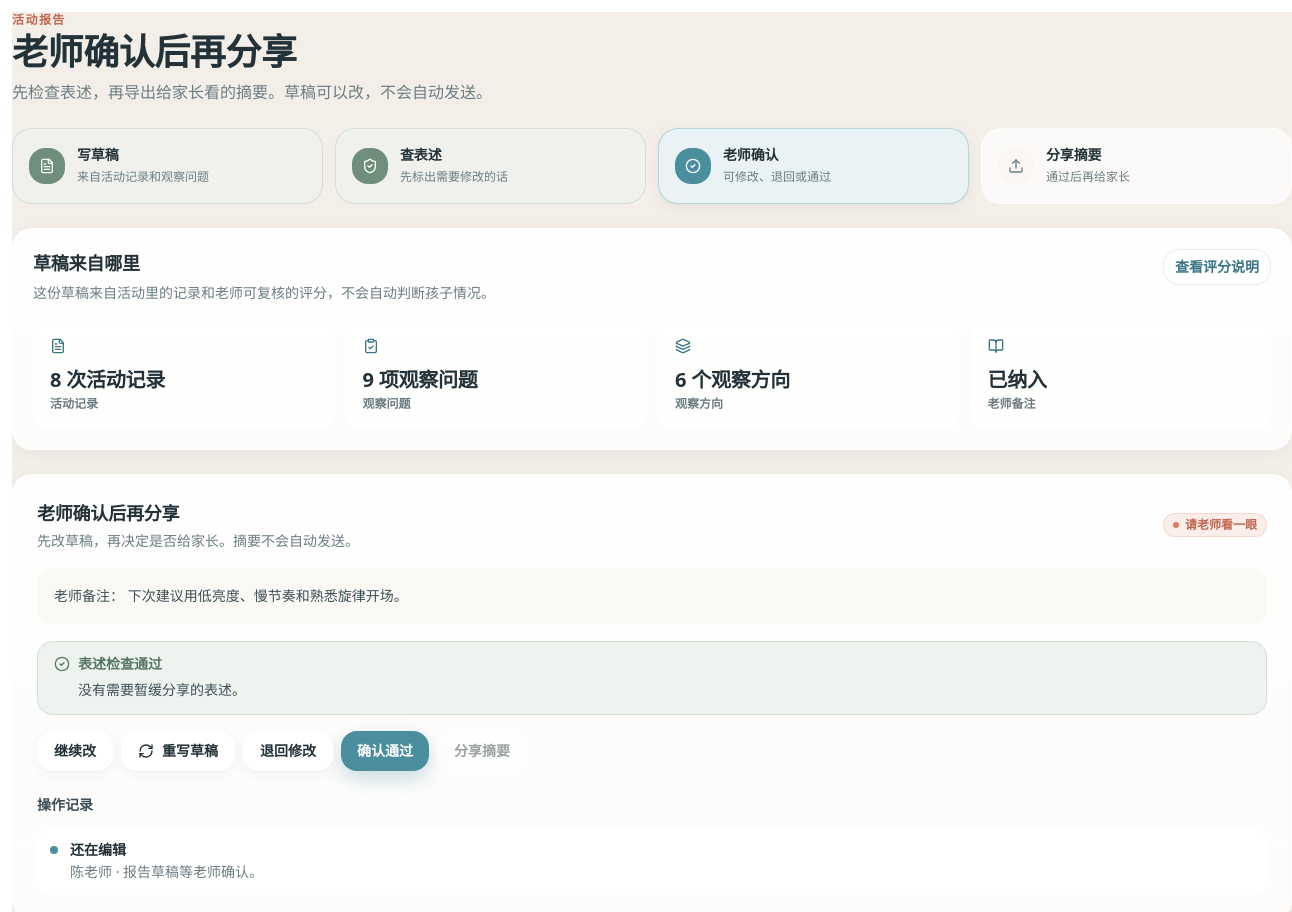
Test: core pages › regenerates the report draft and shows a user-facing audit entry
Click the button "重写草稿". click: (178, 751)
box: x1=121 y1=731 x2=235 y2=771
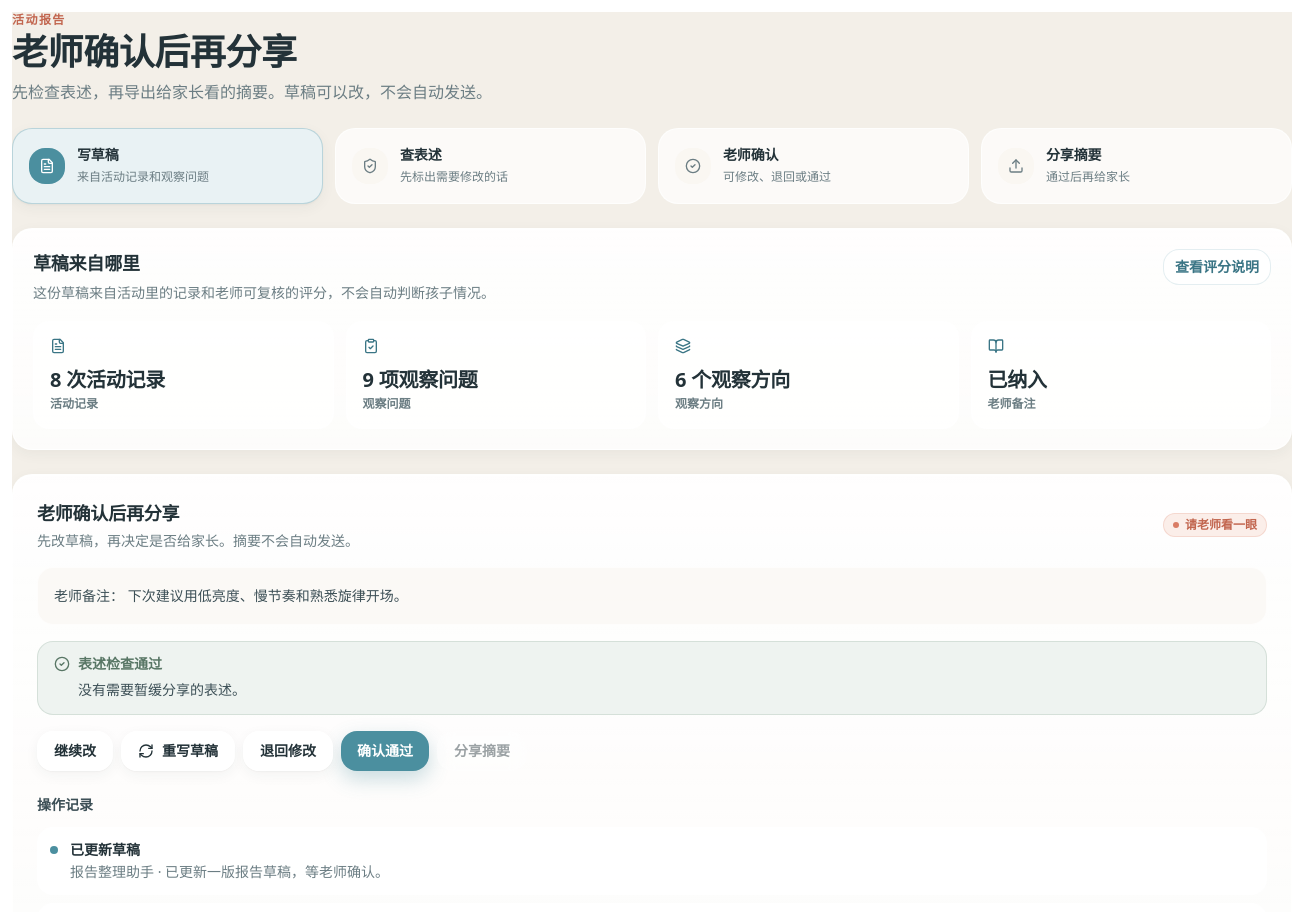
Expected: the text "没有需要暂缓分享的表述。" is shown, x1=78 y1=678 x2=246 y2=702
Result: the text "报告整理助手 · 已更新一版报告草稿，等老师确认。" is shown at x1=70 y1=862 x2=389 y2=882
